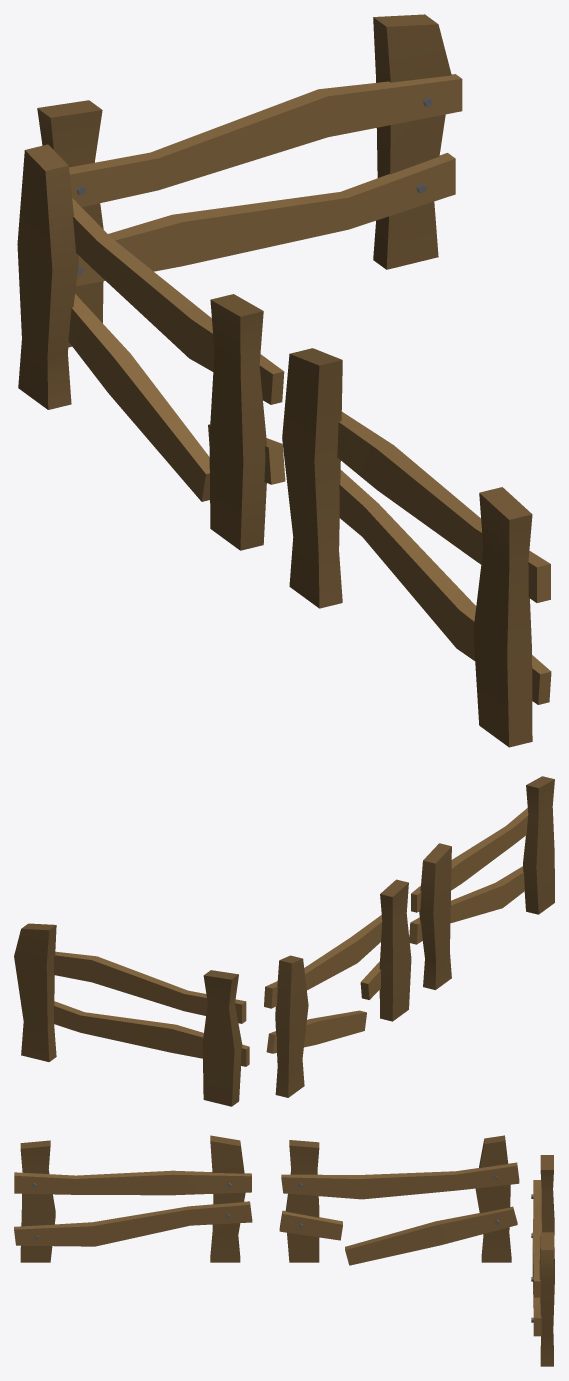
File: Barriere.fbx
3 renders of one model, top to bottom at view 1: azimuth 30°, elevation 25°; view 2: azimuth 150°, elevation 25°; view 3: azimuth 270°, elevation 25°, orthographic. The views are drawn at different scales.
Parts seen in each view (by area): view 1: pCube10, pCube11, pCube5, pCube1, pCube2, pCube6, pCube8, pCube3, polySurface2, pCube7, pCube4, pCube9 (+1 smaller); view 2: pCube8, pCube9, pCube10, pCube11, pCube1, pCube5, pCube6, pCube2, pCube7, pCube3, pCube4, polySurface2 (+1 smaller); view 3: pCube4, pCube7, pCube3, polySurface2, pCube1, pCube6, pCube2, pCube5, pCube8, polySurface1, pCube9, pCube10 (+1 smaller).
Part boxes in pixels (x1,y1,x2,y2): pCube10: [69, 74, 462, 207]; pCube11: [76, 153, 455, 286]; pCube5: [17, 144, 78, 409]; pCube1: [282, 348, 342, 608]; pCube2: [473, 487, 532, 747]; pCube6: [209, 294, 266, 550]; pCube8: [373, 14, 451, 269]; pCube3: [337, 411, 550, 602]; polySurface2: [68, 294, 209, 501]; pCube7: [72, 198, 284, 404]; pCube4: [339, 470, 551, 704]; pCube9: [37, 100, 103, 347]; pCube8: [14, 923, 56, 1061]; pCube9: [202, 970, 242, 1106]; pCube10: [54, 951, 246, 1023]; pCube11: [54, 1001, 249, 1066]; pCube1: [419, 843, 451, 989]; pCube5: [275, 955, 308, 1097]; pCube6: [379, 879, 411, 1021]; pCube2: [523, 776, 554, 914]; pCube7: [264, 915, 382, 1008]; pCube3: [411, 808, 528, 912]; pCube4: [409, 866, 524, 944]; polySurface2: [266, 1010, 366, 1053]; pCube4: [14, 1201, 252, 1246]; pCube7: [281, 1162, 519, 1199]; pCube3: [14, 1170, 251, 1195]; polySurface2: [345, 1206, 517, 1265]; pCube1: [210, 1135, 245, 1262]; pCube6: [285, 1140, 319, 1262]; pCube2: [20, 1140, 55, 1262]; pCube5: [475, 1135, 511, 1262]; pCube8: [539, 1232, 554, 1366]; polySurface1: [279, 1210, 342, 1240]; pCube9: [540, 1155, 554, 1235]; pCube10: [532, 1180, 541, 1297].
Size of the model in its own units: 272 by 135 by 544.
